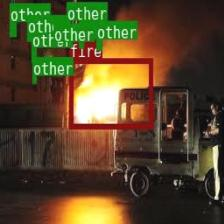fire: (68, 57, 152, 128)
